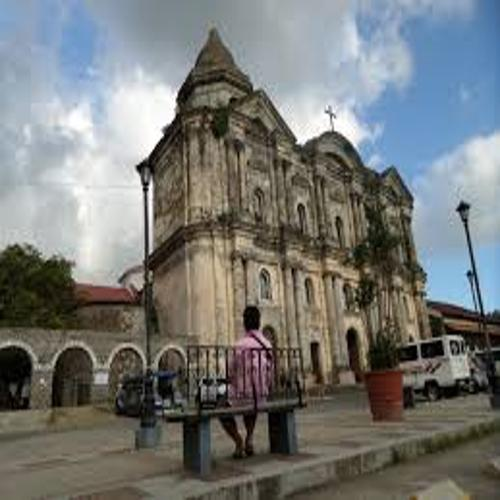Taal Basilica Church: (130, 12, 445, 401)
